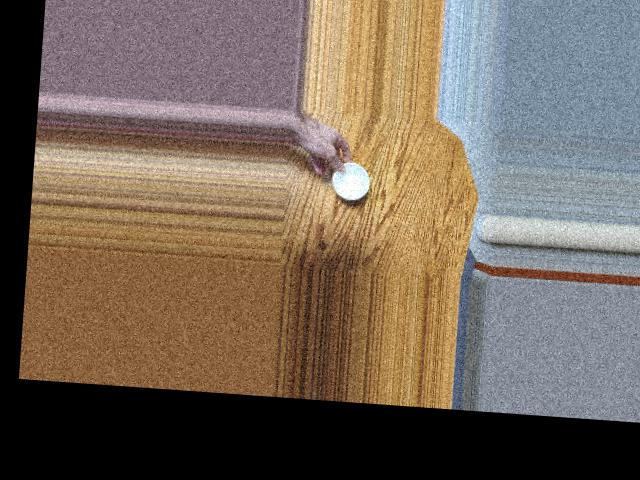cotage: (327, 157, 370, 202)
